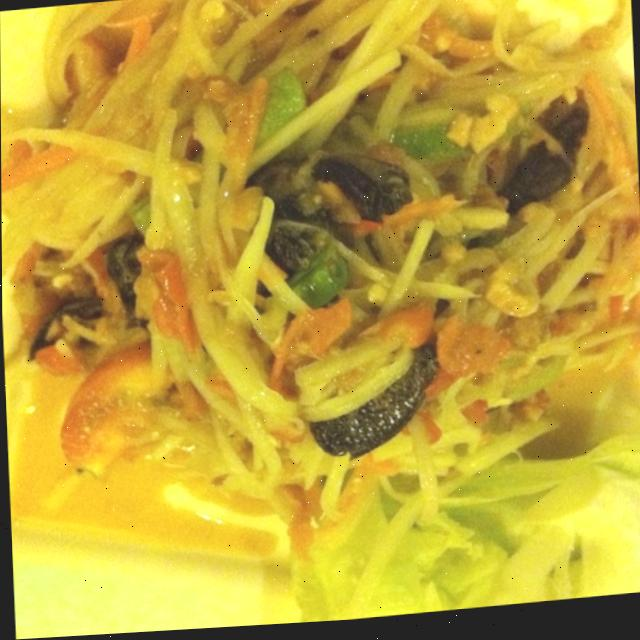蔬菜料理: (0, 0, 639, 631)
